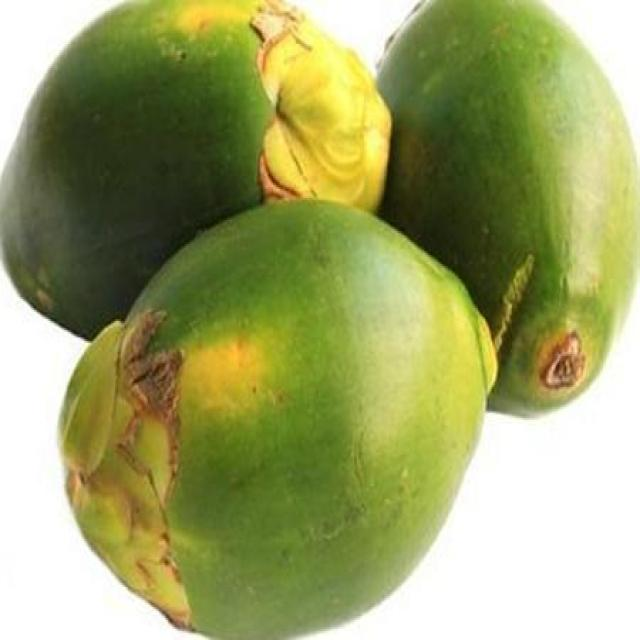good: (57, 200, 495, 638), (3, 0, 393, 345), (374, 0, 639, 420)
